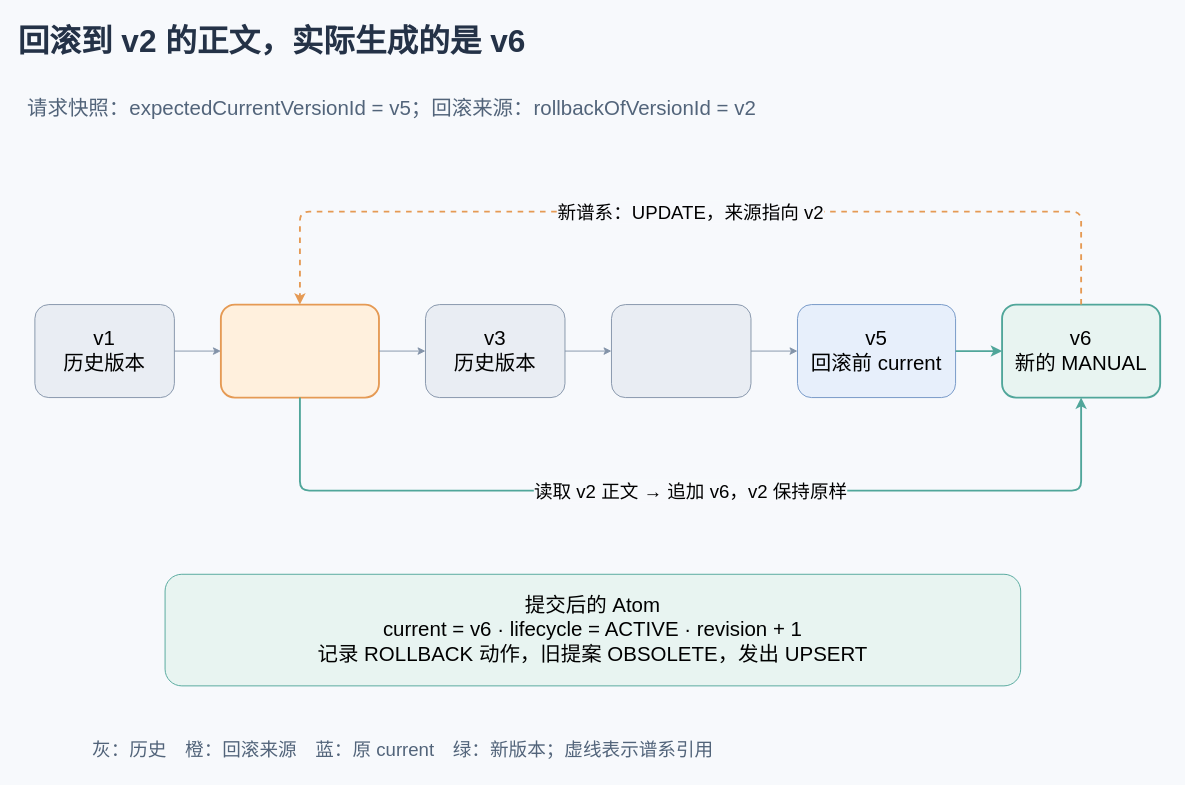
Image size: 1185x785. Some labels were removed from this diagram. Each missing label, with the box of its shape:
v2 要恢复的正文: (219, 303, 379, 398)
v4 历史版本: (611, 304, 751, 398)
